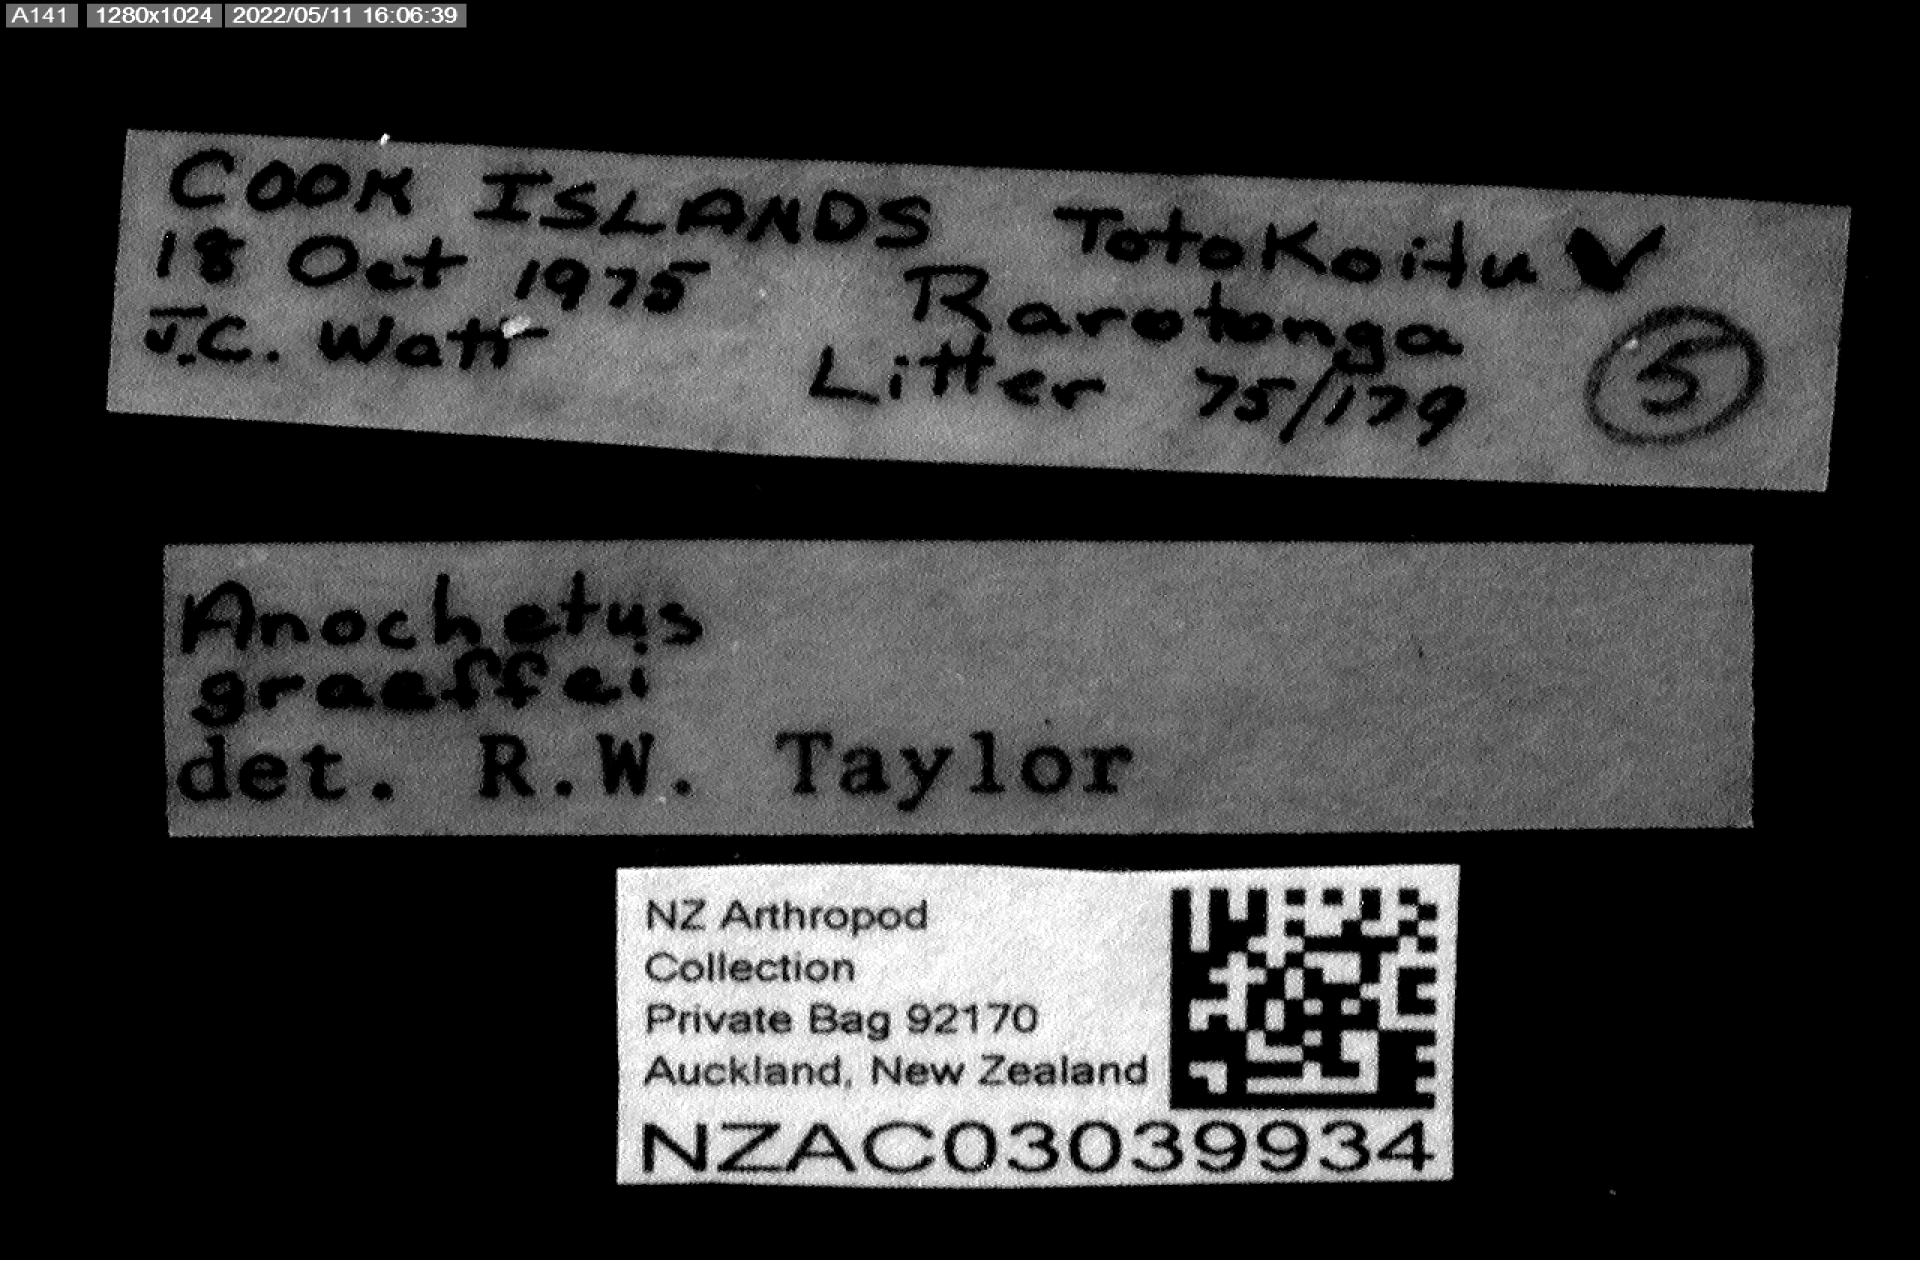hand_label: (109, 131, 1849, 490)
mixed_label: (166, 540, 1751, 834)
typed_label: (619, 866, 1459, 1187)
